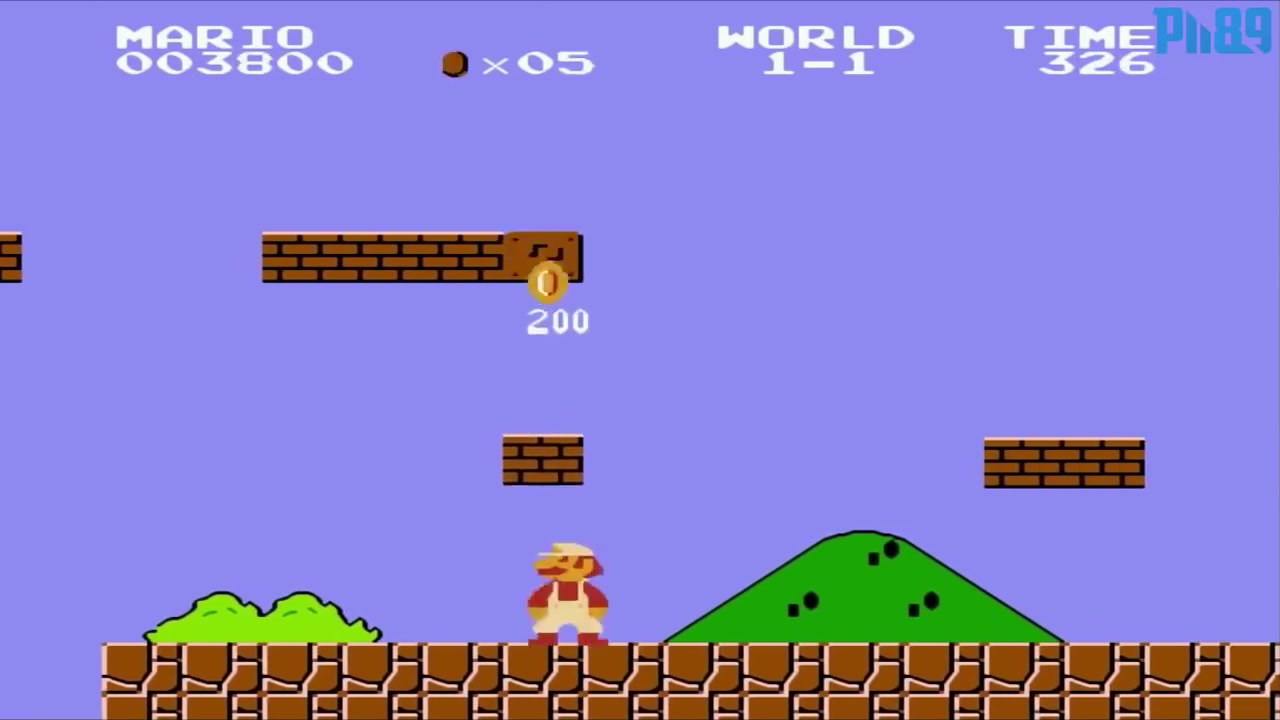mario: (520, 543, 611, 653)
